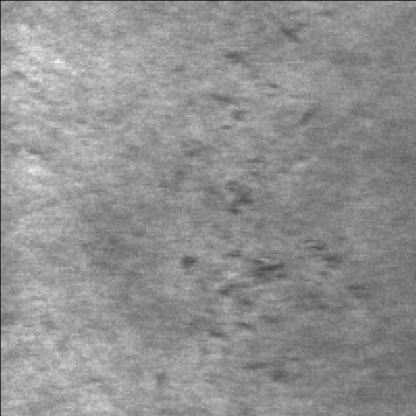rolled-in_scale: (181, 223, 370, 387), (177, 83, 320, 233), (231, 4, 324, 110)
